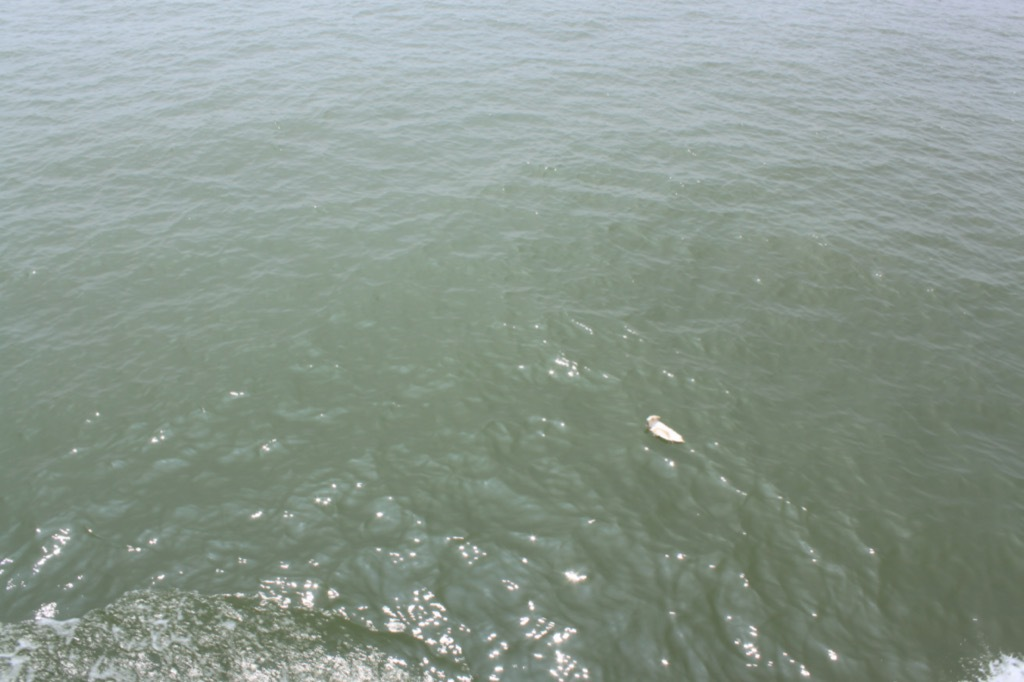plastic: (635, 402, 694, 454)
